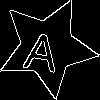A: (22, 22, 63, 73)
